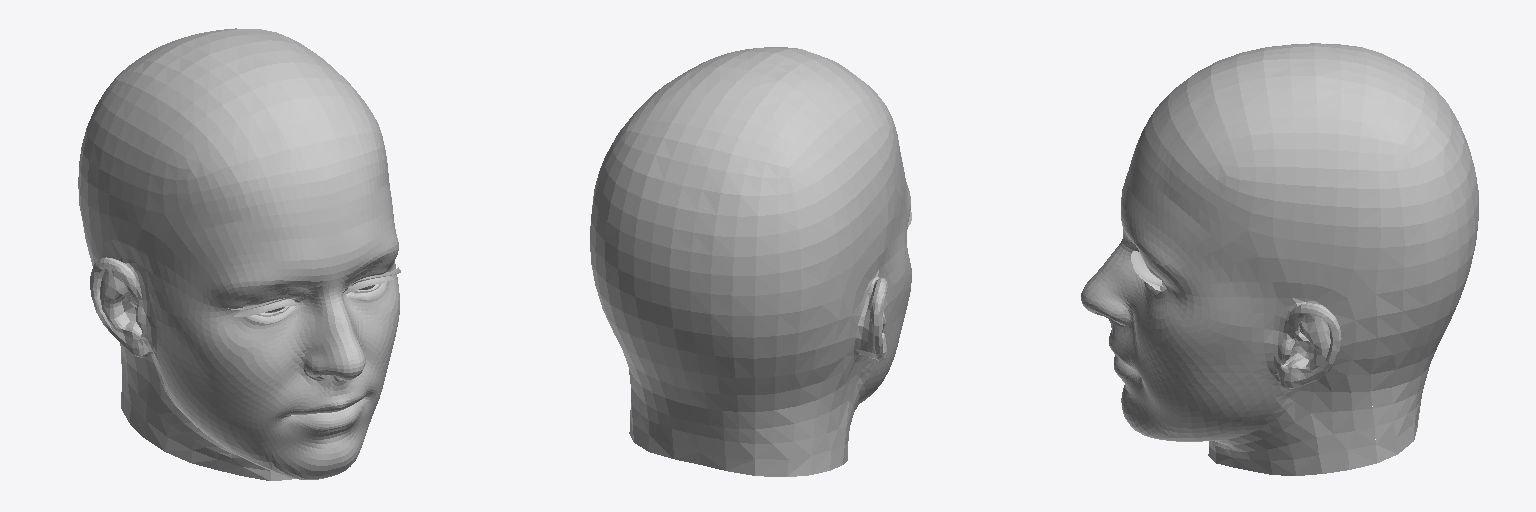
The model's file is nsh_bfm.obj.
The picture shows the model from 3 angles: view 1: azimuth 30°, elevation 25°; view 2: azimuth 150°, elevation 25°; view 3: azimuth 270°, elevation 25°; orthographic projection.
Visible parts, largest first — view 1: face_face, face_jiemao; view 2: face_face; view 3: face_face, face_jiemao.
Boxes of the visible parts, x1,y1,x2,y2 form: face_face: [78, 28, 399, 480]; face_jiemao: [228, 267, 400, 323]; face_face: [590, 47, 911, 476]; face_face: [1081, 43, 1478, 475]; face_jiemao: [1131, 251, 1166, 293].
Bounding box in the file's own units: 1.78 × 2.43 × 2.22.